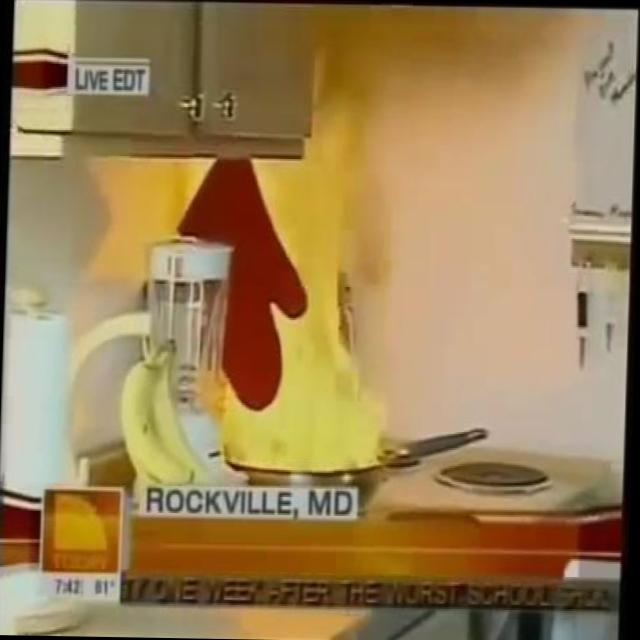fire: (198, 44, 407, 472)
